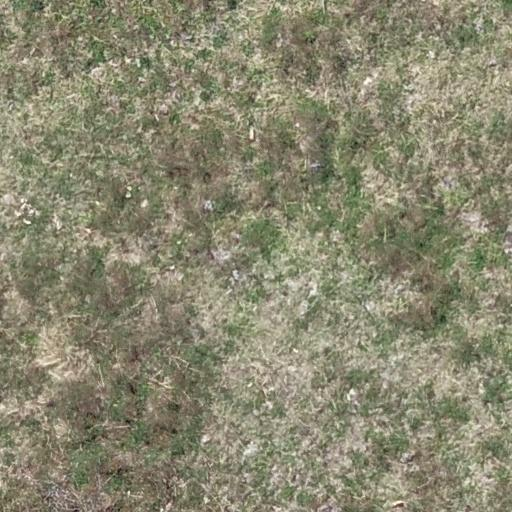stone: (158, 104, 170, 116), (247, 127, 257, 141)
